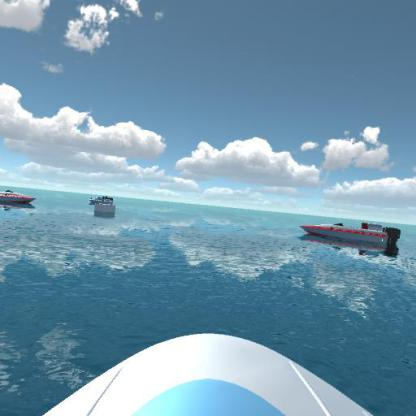usv1: (87, 192, 118, 206)
usv3: (294, 212, 406, 257), (0, 180, 38, 211)
